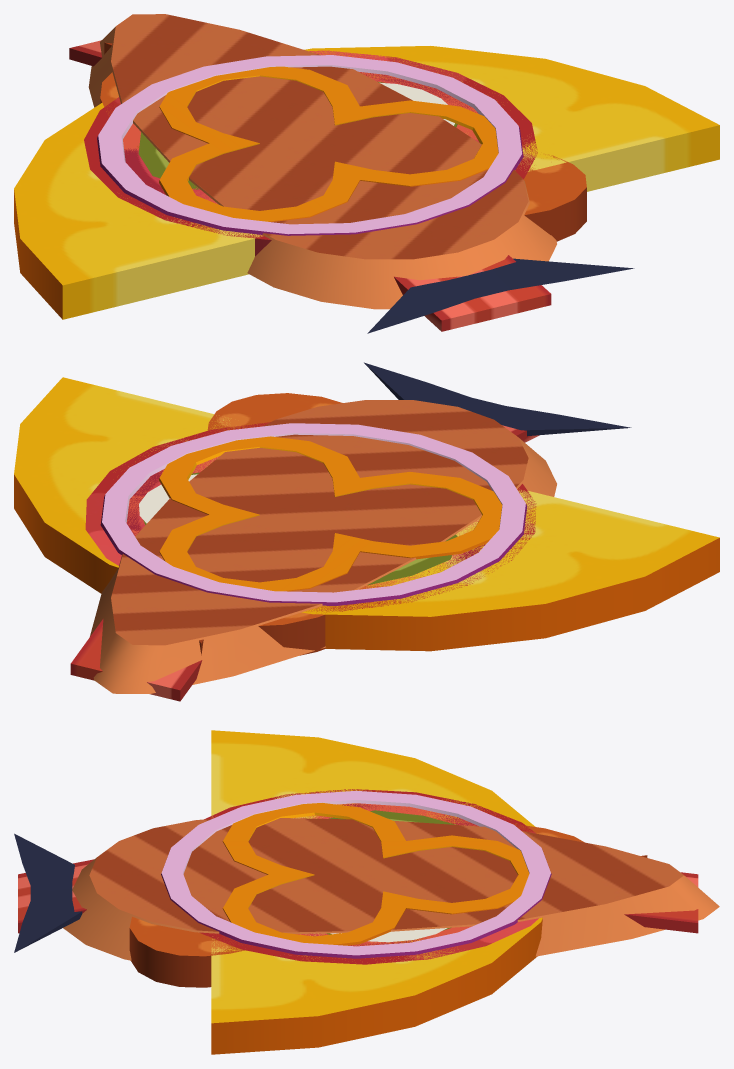
File: toppingsCombined.glb
3 views of the same model, one above another, from view 1: azimuth 30°, elevation 25°; view 2: azimuth 150°, elevation 25°; view 3: azimuth 270°, elevation 25° (orthographic). The views are drawn at different scales.
Visible parts, largest first — view 1: combined; view 2: combined; view 3: combined.
Part boxes in pixels (left/top/right/bottom): combined: left=14, top=14, right=719, bottom=333; combined: left=14, top=362, right=719, bottom=701; combined: left=14, top=730, right=719, bottom=1054.
Size of the model in its own units: 0.2 by 0.0113 by 0.2036.
Materials: 1 (1 with a texture image).
